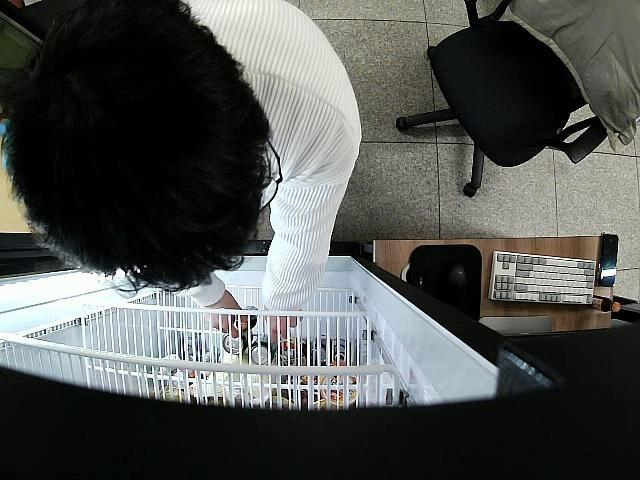17_vita500: (234, 305, 260, 333)
